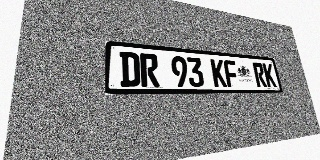3: (186, 57, 204, 87)
9: (171, 56, 189, 87)
D: (120, 51, 140, 87)
F: (223, 60, 239, 87)
K: (210, 59, 227, 87), (262, 63, 277, 87)
R: (140, 53, 160, 87), (252, 62, 267, 87)
